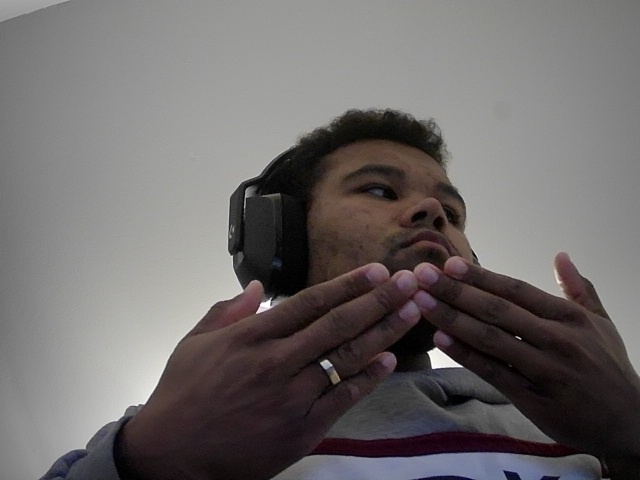ThankYou: (121, 238, 640, 480)
